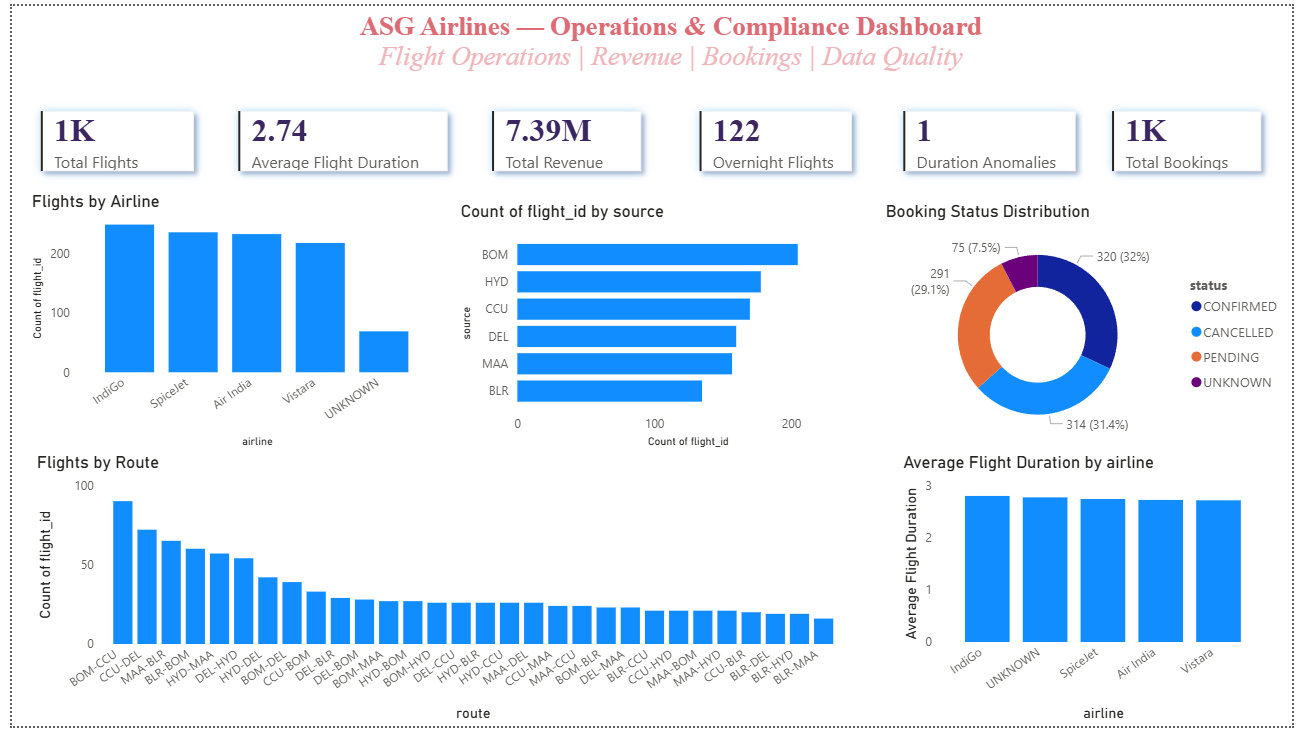

This screenshot's page, from the dashboard's own definition file:
{"tool":"powerbi","page":{"name":"Executive Overview","canvas":[1280,720],"ordinal":0},"visuals":[{"type":"cardVisual","fields":{"Data":["dim_bookings.Total Flights"]},"box":[0,76.2,211.2,118.8],"z":0},{"type":"cardVisual","fields":{"Data":["dim_bookings.Average Flight Duration"]},"box":[197.5,76.2,267.5,118.8],"z":1000},{"type":"cardVisual","fields":{"Data":["dim_bookings.Total Revenue"]},"box":[451.2,76.2,207.5,118.8],"z":2000},{"type":"cardVisual","fields":{"Data":["dim_bookings.Overnight Flights"]},"box":[658.8,76.2,210,118.8],"z":3000},{"type":"cardVisual","fields":{"Data":["dim_bookings.Duration Anomalies"]},"box":[862.5,76.2,230,118.8],"z":4000},{"type":"cardVisual","fields":{"Data":["dim_bookings.Total Bookings"]},"box":[1071.2,76.2,207.5,118.8],"z":5000},{"type":"clusteredColumnChart","title":"Flights by Airline","fields":{"Category":["fact_flights.airline"],"Y":["Count(fact_flights.flight_id)"]},"box":[15,185,413.8,261.2],"z":6000},{"type":"clusteredColumnChart","title":"Flights by Route","fields":{"Category":["fact_flights.route"],"Y":["CountNonNull(fact_flights.flight_id)"]},"box":[20,446.2,816.2,273.8],"z":7000},{"type":"clusteredColumnChart","fields":{"Category":["fact_flights.airline"],"Y":["dim_bookings.Average Flight Duration"]},"box":[886.2,446.2,372.5,273.8],"z":8000},{"type":"donutChart","title":"Booking Status Distribution","fields":{"Category":["dim_bookings.status"],"Y":["CountNonNull(dim_bookings.booking_id)"]},"box":[868.8,195,411.2,248.8],"z":9000},{"type":"clusteredBarChart","fields":{"Category":["fact_flights.source"],"Y":["Count(fact_flights.flight_id)"]},"box":[443.8,195,418.8,251.2],"z":10000},{"type":"textbox","box":[285,0,747.5,85],"z":11000}]}

Visuals, with their boxes in screenshot pixels (x1, y1, x2, y2), scaled from the page's 1280x720 canvas onto the 1305x735 screenshot:
cardVisual - dim_bookings.Total Flights: bbox=(0, 78, 215, 199)
cardVisual - dim_bookings.Average Flight Duration: bbox=(201, 78, 474, 199)
cardVisual - dim_bookings.Total Revenue: bbox=(460, 78, 672, 199)
cardVisual - dim_bookings.Overnight Flights: bbox=(672, 78, 886, 199)
cardVisual - dim_bookings.Duration Anomalies: bbox=(879, 78, 1114, 199)
cardVisual - dim_bookings.Total Bookings: bbox=(1092, 78, 1304, 199)
"Flights by Airline" clusteredColumnChart: bbox=(15, 189, 437, 455)
"Flights by Route" clusteredColumnChart: bbox=(20, 455, 853, 734)
clusteredColumnChart - fact_flights.airline x dim_bookings.Average Flight Duration: bbox=(904, 455, 1283, 734)
"Booking Status Distribution" donutChart: bbox=(886, 199, 1304, 453)
clusteredBarChart - fact_flights.source x Count(fact_flights.flight_id): bbox=(452, 199, 879, 455)
textbox: bbox=(291, 0, 1053, 87)
